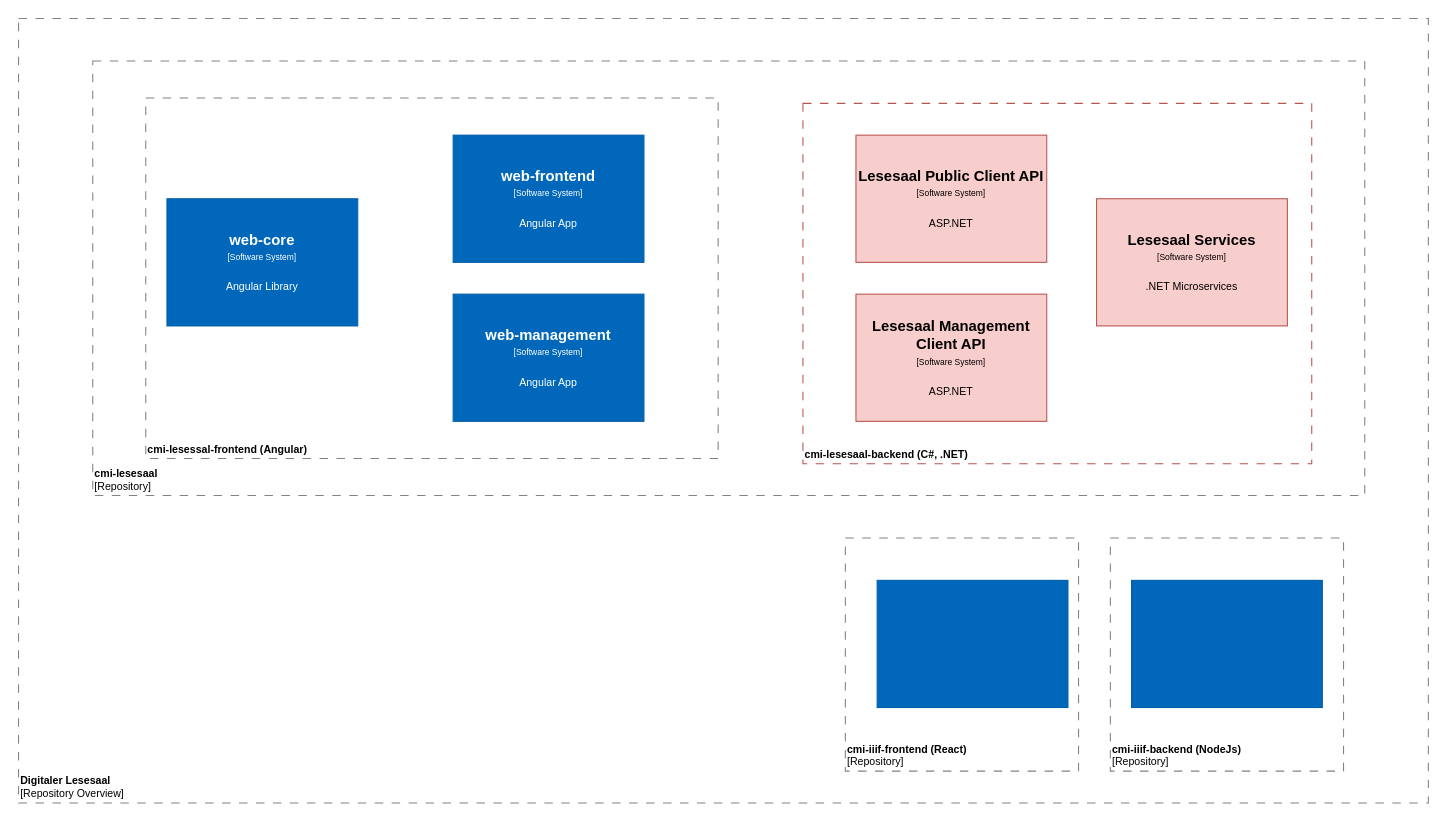
The diagram is 1447 pixels wide and 821 high, and some of its shapes have lost their labels. Each missing label, with the centre of its shape:
"cmi-iiif-backend [Software System] Node.js App" goes at (1226,643).
"cmi-iiif-frontend [Software System] React App" goes at (972,643).
